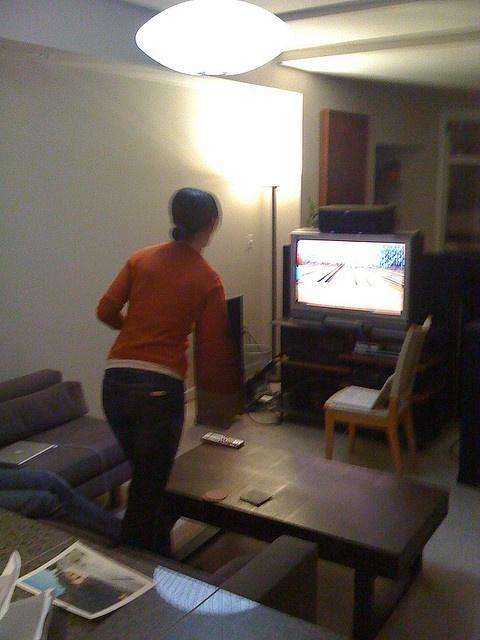Kursi: (322, 316, 432, 476)
Meja: (161, 433, 450, 584)
